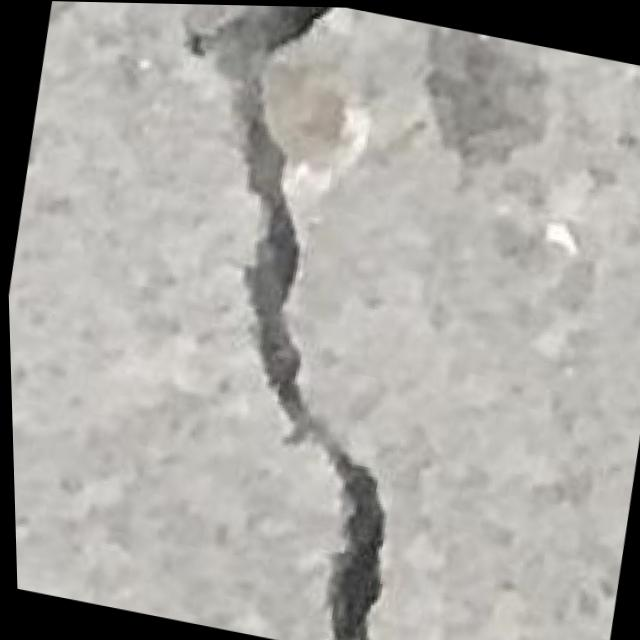Crack: (77, 1, 500, 640)
